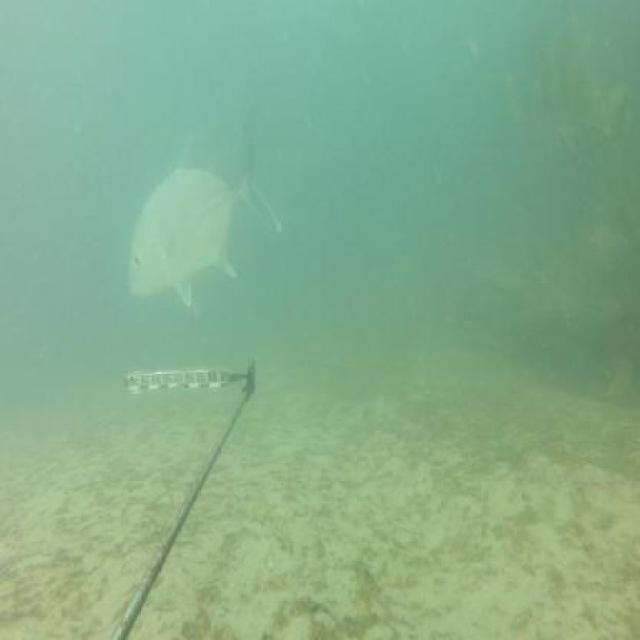Caranx: (126, 115, 286, 312)
